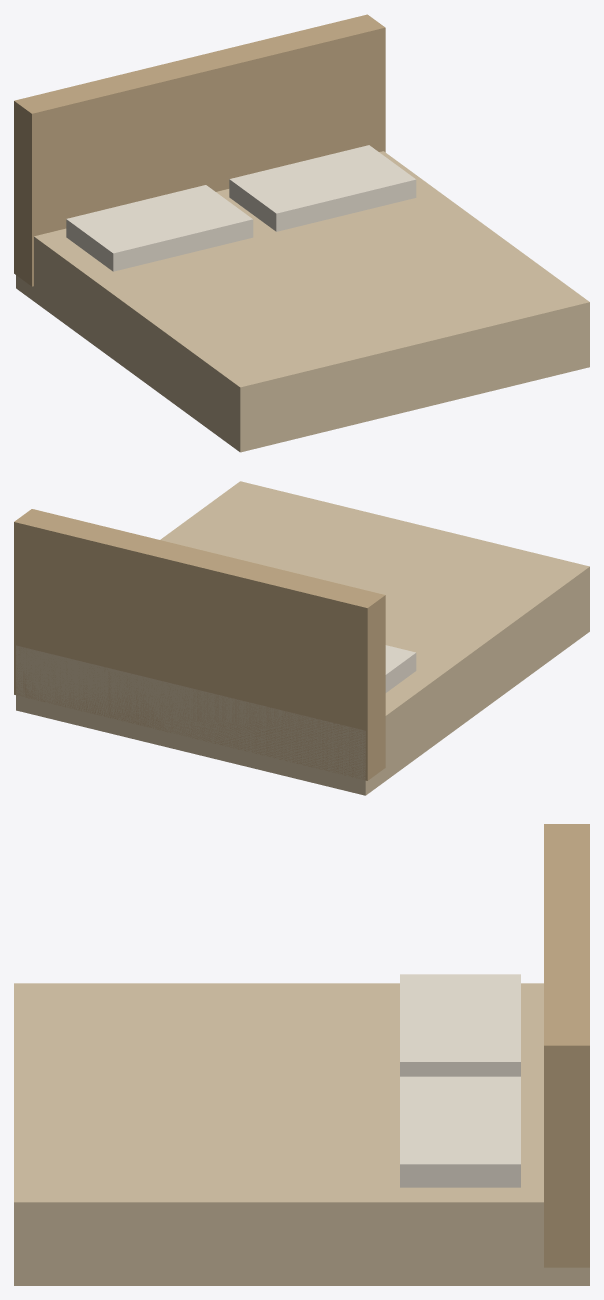
File: bed.glb
3 views of the same model, one above another, from view 1: azimuth 30°, elevation 25°; view 2: azimuth 150°, elevation 25°; view 3: azimuth 270°, elevation 25° (orthographic). The views are drawn at different scales.
Size of the model in its own units: 1.82 by 0.925 by 2.
